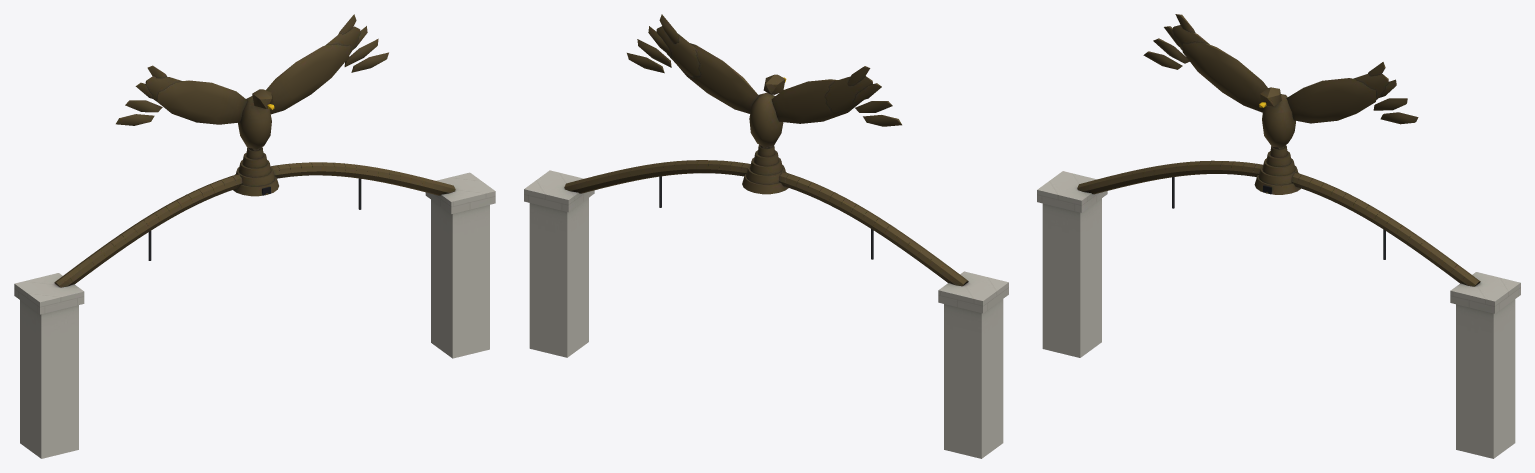
Rendered from eagle_gate.glb.
3 views of the same model, side by side, from view 1: azimuth 30°, elevation 25°; view 2: azimuth 150°, elevation 25°; view 3: azimuth 330°, elevation 25° (orthographic).
Visible parts, largest first — view 1: eagle_gate; view 2: eagle_gate; view 3: eagle_gate.
Boxes of the visible parts, x1,y1,x2,y2 form: eagle_gate: (14,14,495,458); eagle_gate: (524,14,1008,458); eagle_gate: (1037,14,1520,458).
Size of the model in its own units: 19.5 by 14.56 by 2.31.
1 material, 1 textured.
